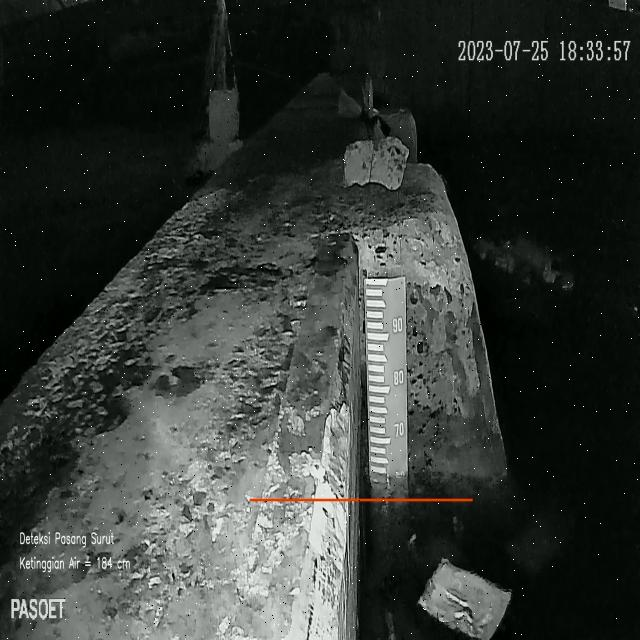70: (394, 422, 404, 440)
80: (394, 369, 404, 387)
90: (392, 317, 403, 335)
staff: (364, 278, 407, 476)
